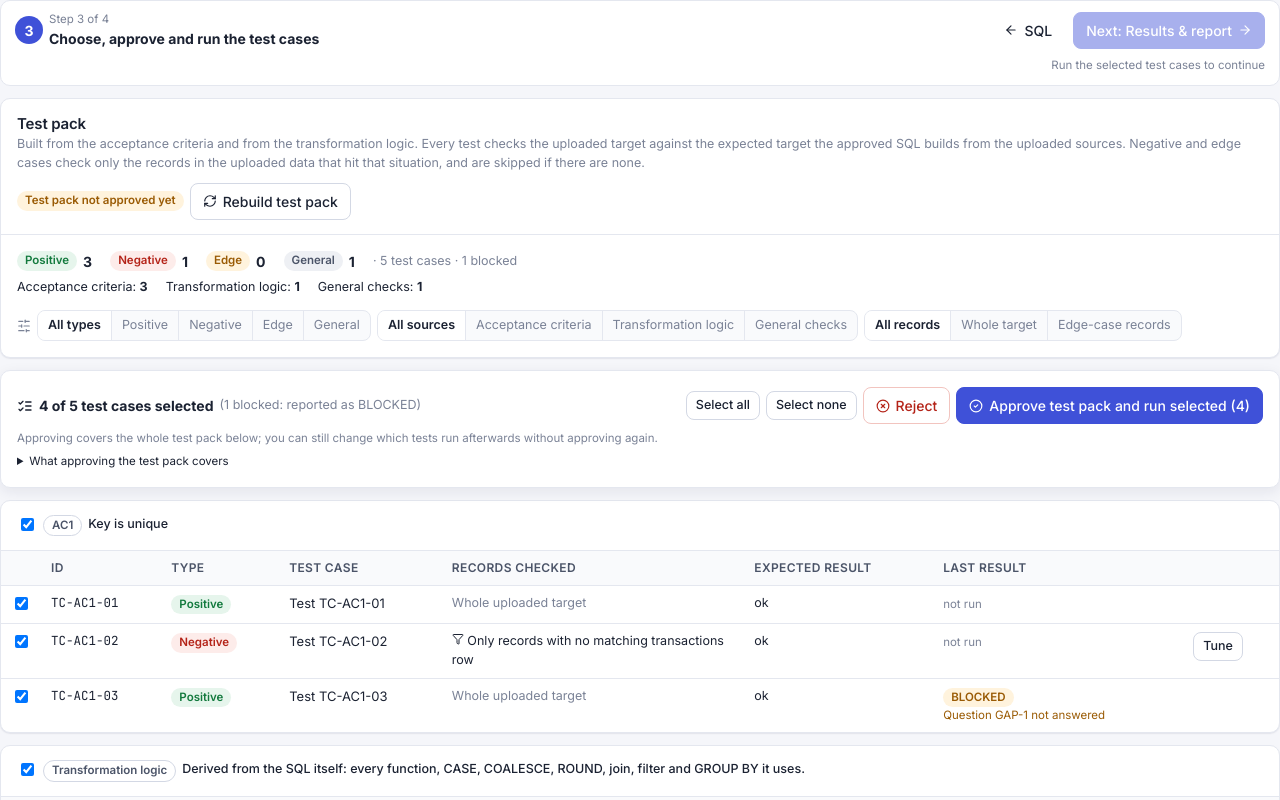
it: Test cases › filters by source
The width and height of the screenshot is (1280, 800).
Expected: the text "4 of 5 test cases selected" is shown, [39,395,214,416]
Click the button "Transformation logic" at (673, 326), box [602,311,744,340]
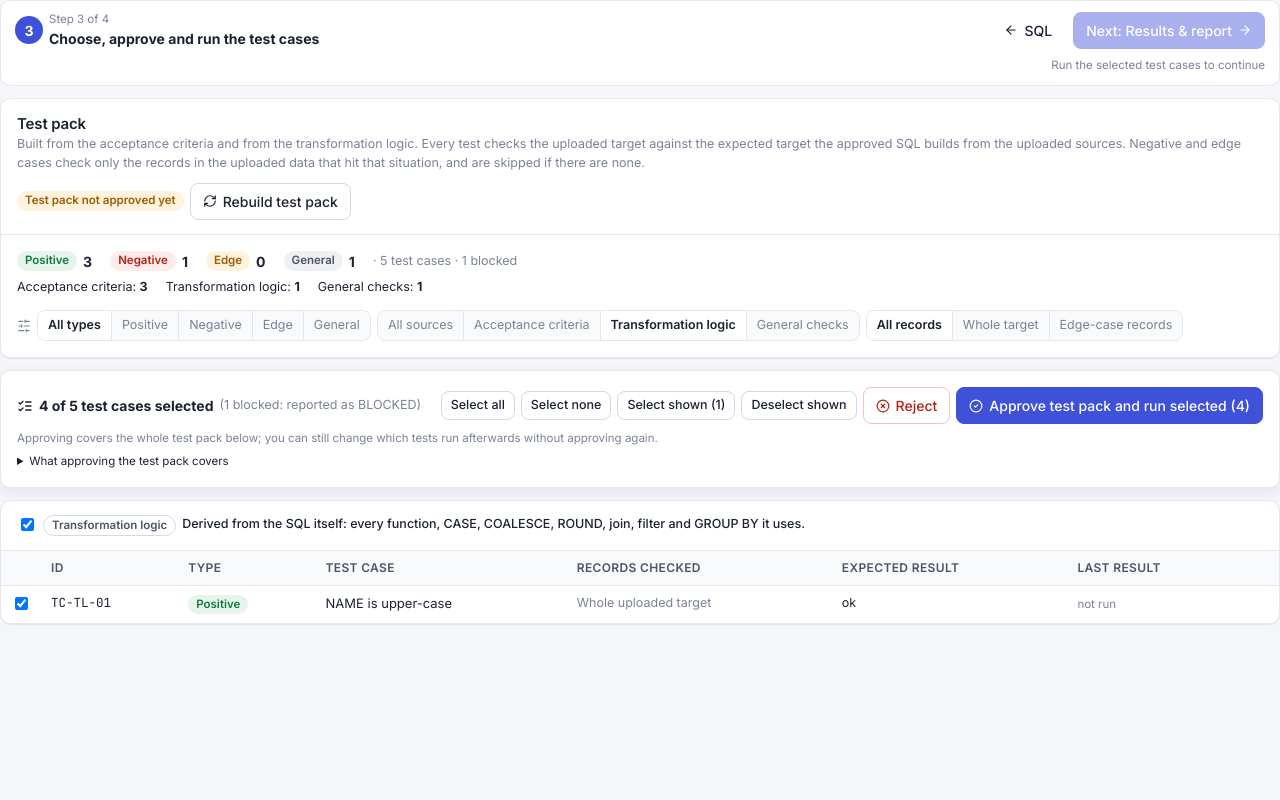
Expected: the text "NAME is upper-case" is shown, [316,585,567,623]
Expected: the text "Test TC-AC1-01" is gone
